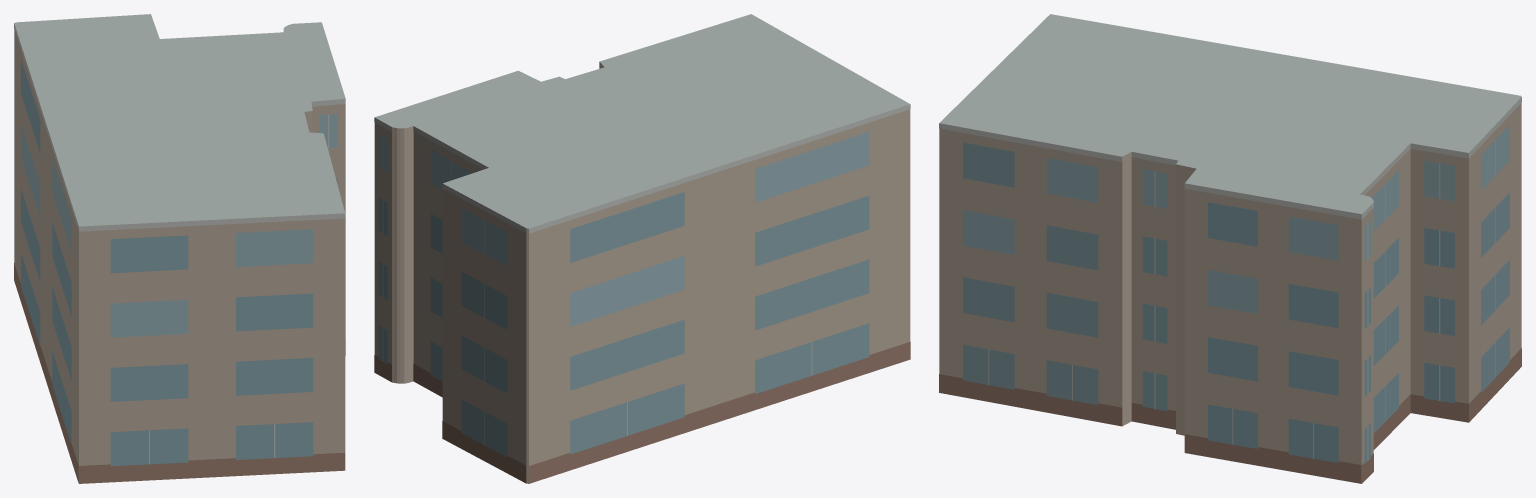
File: survey-upis-32815826.glb
3 renders of one model, left to right at view 1: azimuth 30°, elevation 25°; view 2: azimuth 150°, elevation 25°; view 3: azimuth 270°, elevation 25°, orthographic. The views are drawn at different scales.
Visible parts, largest first — view 1: survey-upis-32815826.tmp; view 2: survey-upis-32815826.tmp; view 3: survey-upis-32815826.tmp.
Boxes of the visible parts, x1,y1,x2,y2 form: survey-upis-32815826.tmp: (14, 14, 345, 483); survey-upis-32815826.tmp: (374, 14, 910, 483); survey-upis-32815826.tmp: (939, 14, 1521, 483).
Size of the model in its own units: 19.49 by 12.23 by 23.96.
